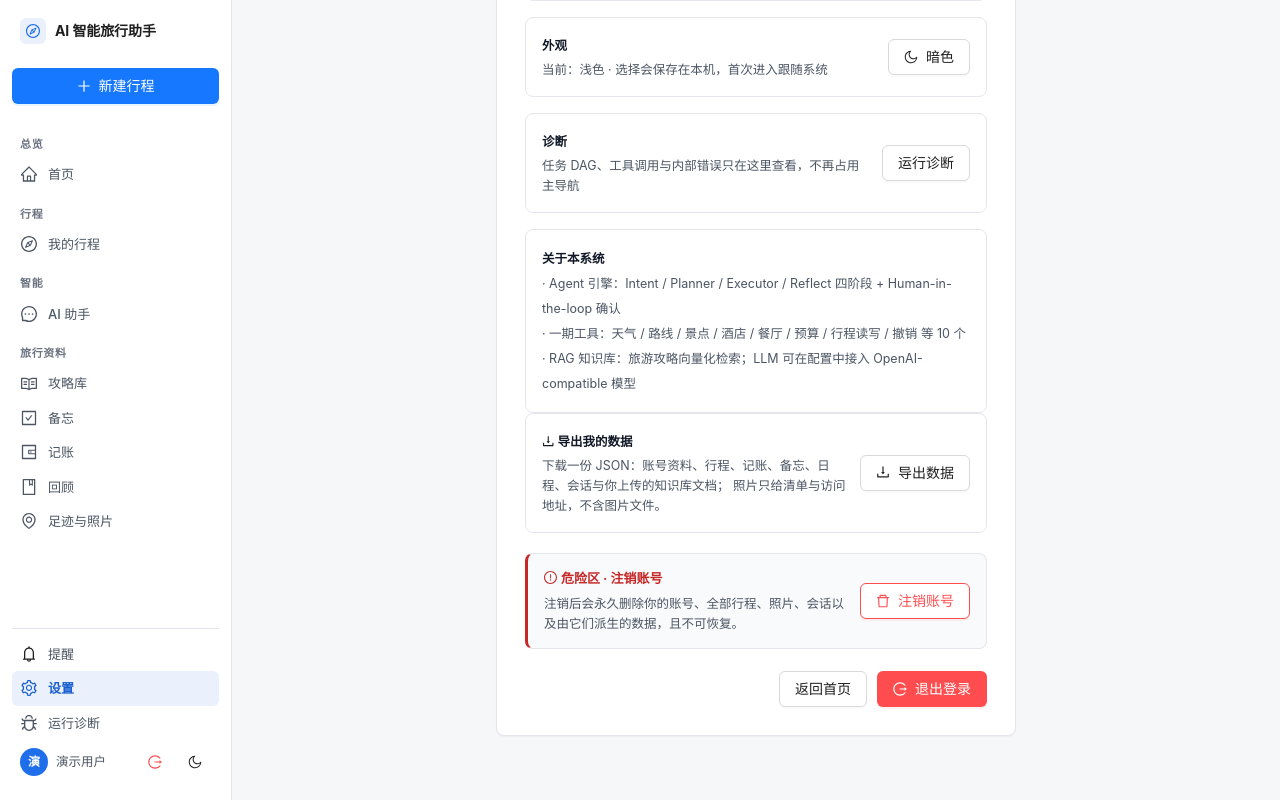
Test: Profile · 注销账号（P0-D） › 其他错误给出可重试文案，弹窗仍保留
This screenshot has width=1280, height=800.
(page scrolled)
Click the button with test id "open-delete-account" at {"x": 915, "y": 601}, box [860, 583, 970, 619]
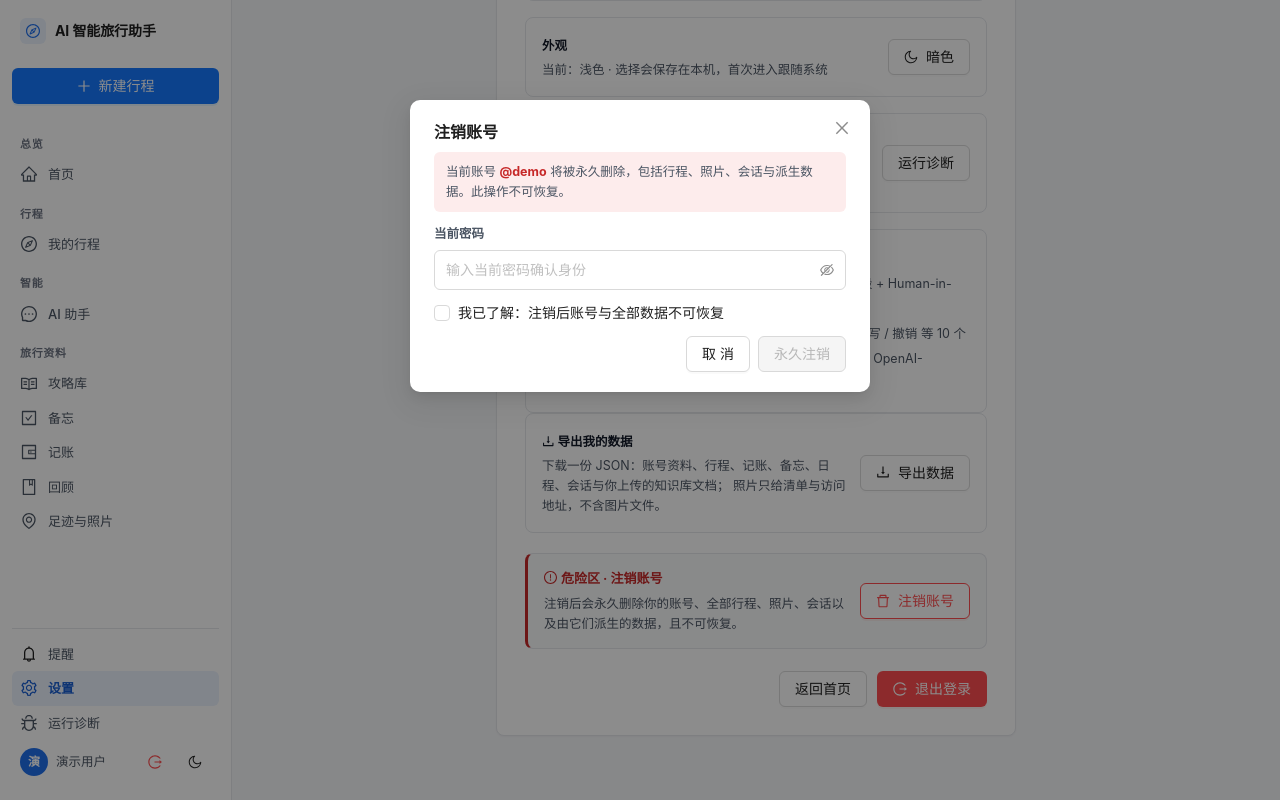
Type "secret-123" into the password field labelled "当前密码" at {"x": 631, "y": 270}, box [446, 255, 816, 285]
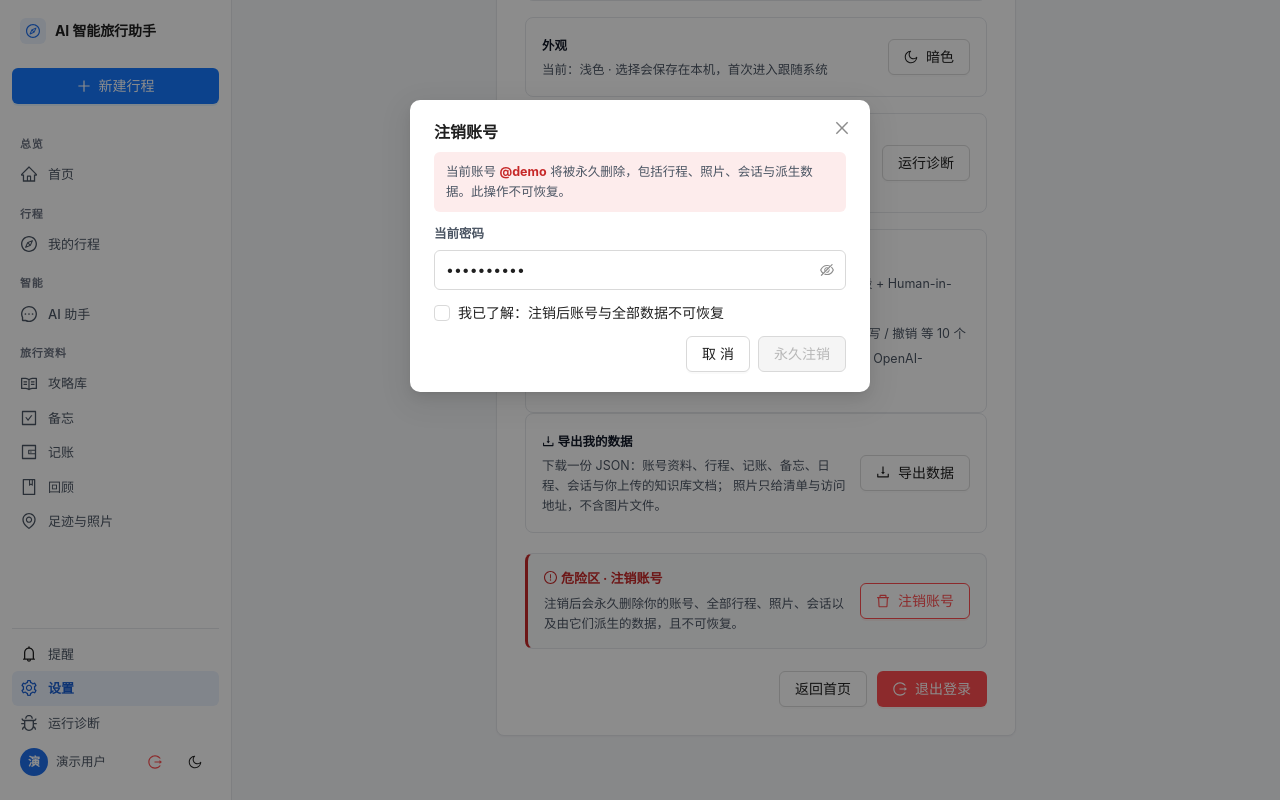
Click the checkbox at {"x": 579, "y": 312}, box [434, 304, 724, 321]
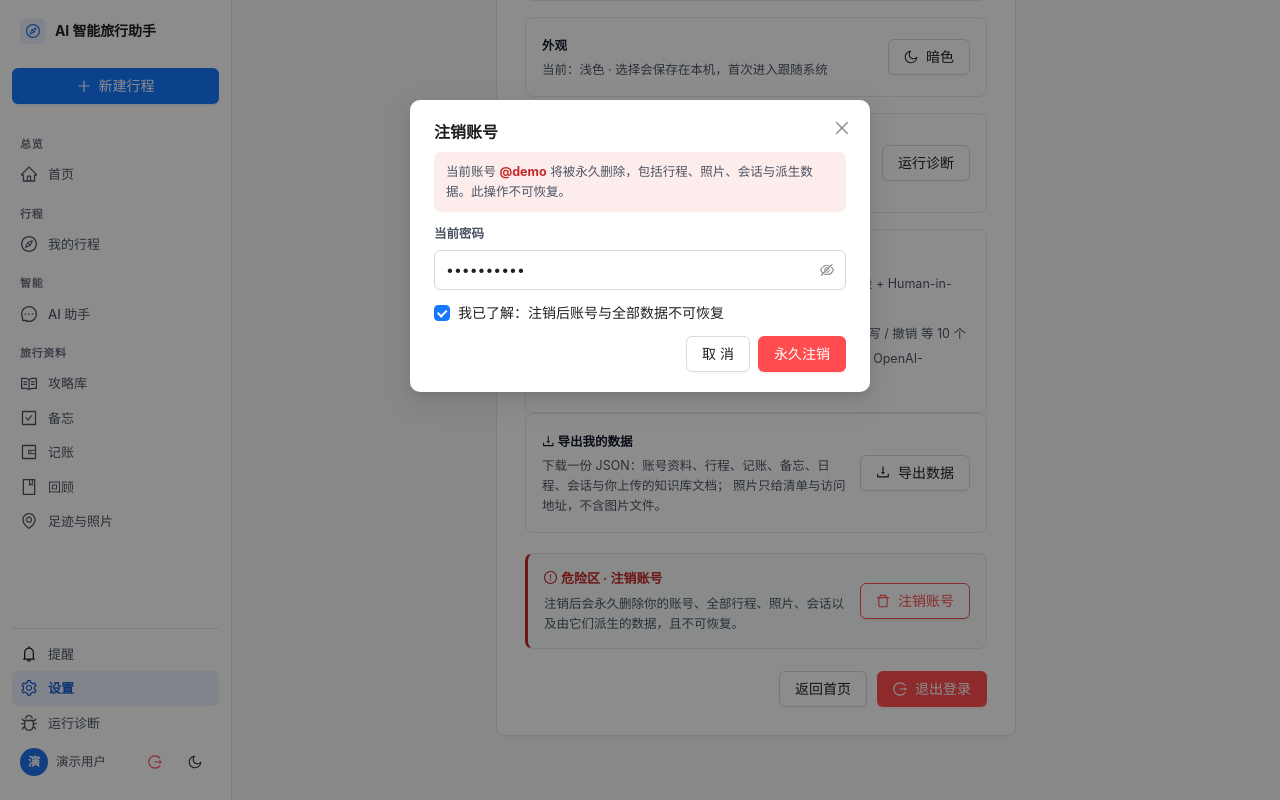
Click the button with test id "confirm-delete-account" at {"x": 802, "y": 354}, box [758, 336, 846, 372]
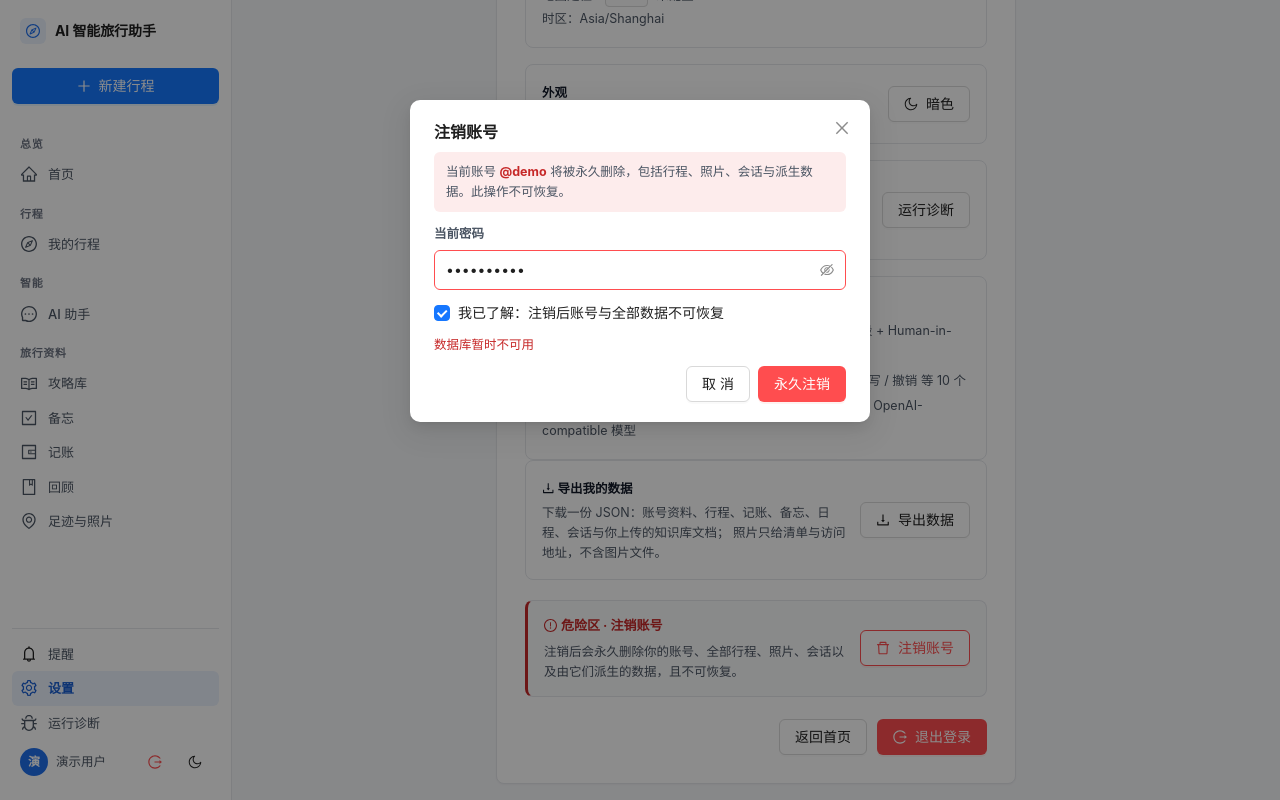
Result: the dialog is shown at [410, 100, 870, 446]
Result: the message with test id "delete-account-error" reads "数据库暂时不可用" at [434, 337, 534, 352]
